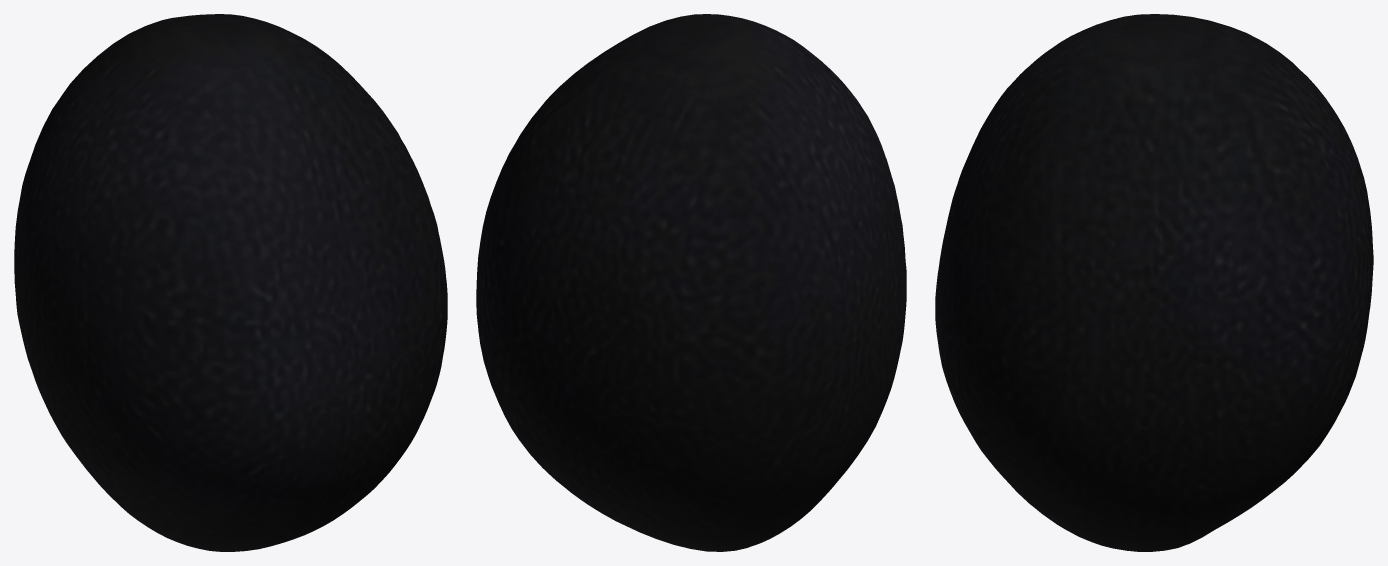
The model's file is Solive.fbx.
3 renders of one model, left to right at view 1: azimuth 30°, elevation 25°; view 2: azimuth 150°, elevation 25°; view 3: azimuth 270°, elevation 25°, orthographic.
Visible parts, largest first — view 1: mesh; view 2: mesh; view 3: mesh.
Boxes of the visible parts, x1=… form: mesh: x1=14, y1=14, x2=447, y2=551; mesh: x1=476, y1=14, x2=906, y2=551; mesh: x1=935, y1=14, x2=1373, y2=551.
Size of the model in its own units: 75.82 by 99.95 by 78.81.
